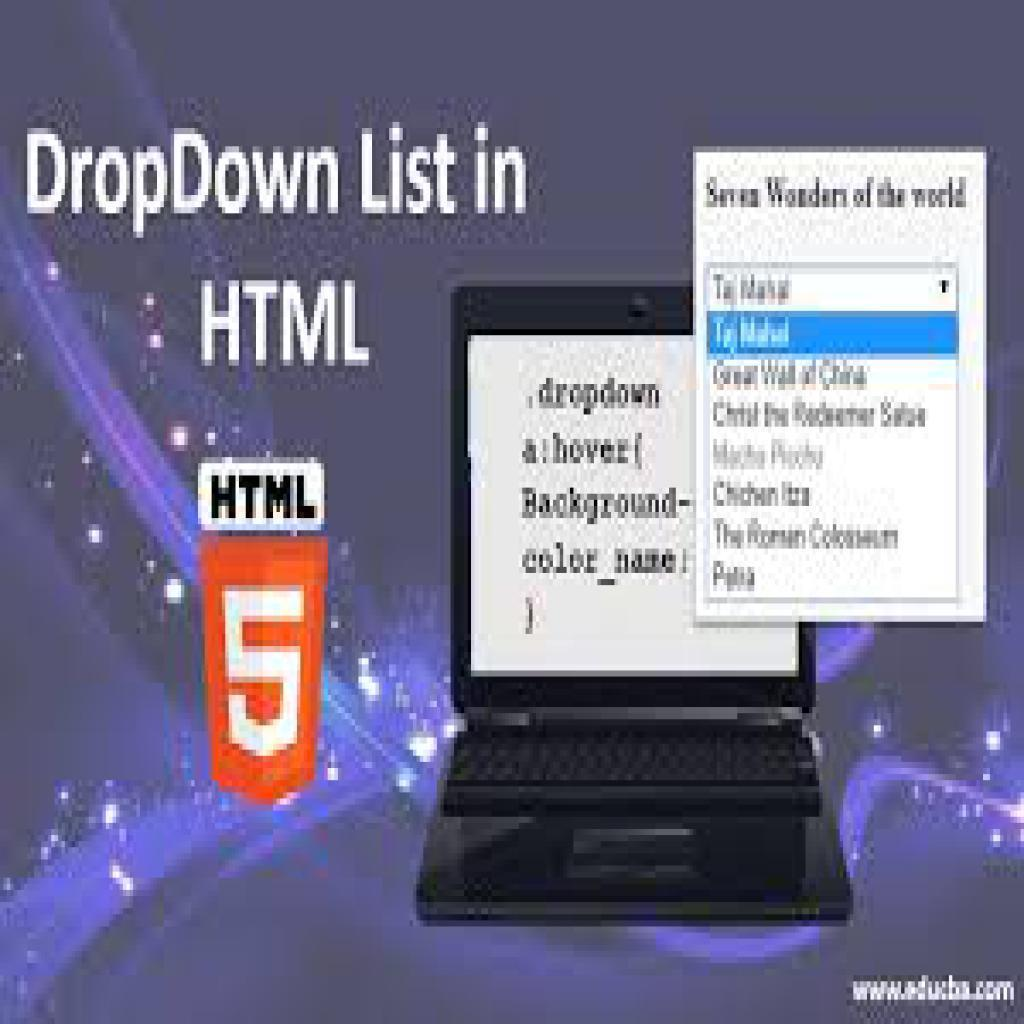dropdown: (707, 263, 962, 315)
